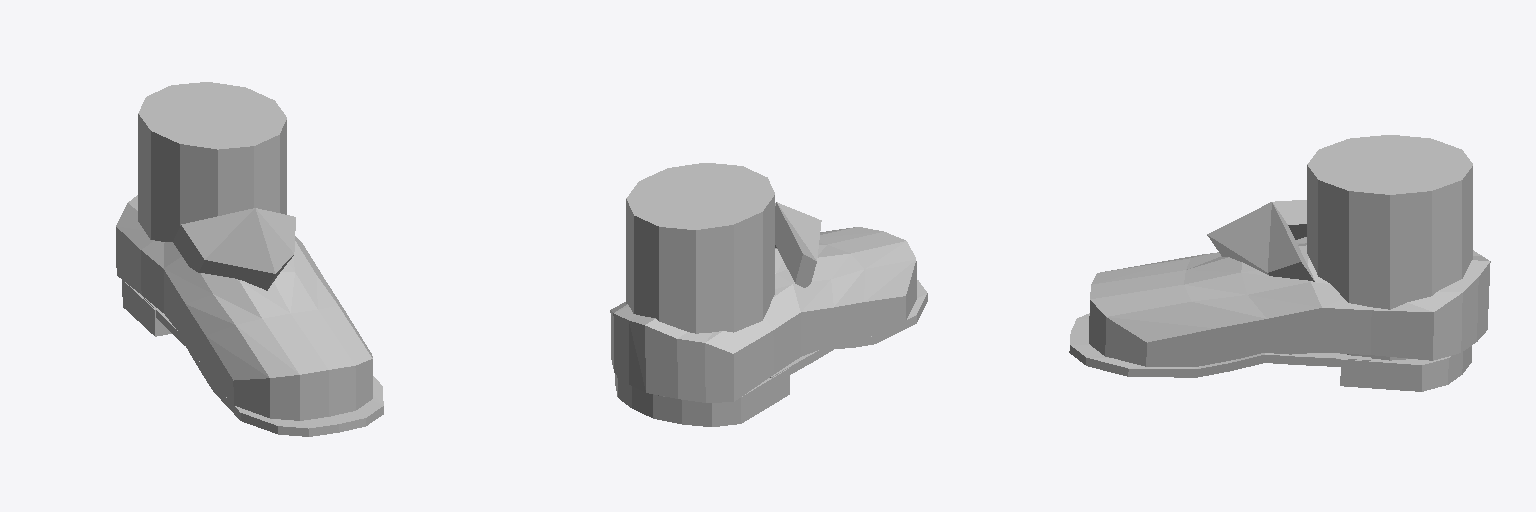
Rendered from Foot_R.obj.
3 views of the same model, side by side, from view 1: azimuth 30°, elevation 25°; view 2: azimuth 150°, elevation 25°; view 3: azimuth 270°, elevation 25° (orthographic).
Visible parts, largest first — view 1: Foot_R pCube53, Foot_R pCylinder66, Foot_R pCube56, Foot_R pCube52, pCube51 Foot_R; view 2: Foot_R pCube53, Foot_R pCylinder66, pCube51 Foot_R, Foot_R pCube56, Foot_R pCube52; view 3: Foot_R pCube53, Foot_R pCylinder66, Foot_R pCube56, Foot_R pCube52, pCube51 Foot_R.
Part boxes in pixels (bbox=[...]): Foot_R pCube53: bbox=[116, 195, 372, 420]; Foot_R pCylinder66: bbox=[138, 82, 286, 241]; Foot_R pCube56: bbox=[173, 208, 295, 290]; Foot_R pCube52: bbox=[144, 298, 383, 436]; pCube51 Foot_R: bbox=[122, 280, 171, 336]; Foot_R pCube53: bbox=[610, 227, 916, 402]; Foot_R pCylinder66: bbox=[626, 163, 774, 396]; pCube51 Foot_R: bbox=[615, 368, 789, 426]; Foot_R pCube56: bbox=[775, 202, 821, 287]; Foot_R pCube52: bbox=[770, 280, 927, 377]; Foot_R pCube53: bbox=[1089, 237, 1490, 366]; Foot_R pCylinder66: bbox=[1307, 135, 1472, 360]; Foot_R pCube56: bbox=[1207, 200, 1314, 281]; Foot_R pCube52: bbox=[1069, 313, 1370, 377]; pCube51 Foot_R: bbox=[1340, 346, 1471, 391].
Bounding box in the file's own units: 1.01 × 1.14 × 2.24.